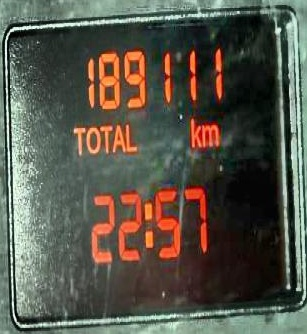1: (86, 55, 94, 107), (188, 47, 195, 101), (214, 46, 221, 99), (162, 49, 169, 102)
2: (90, 193, 115, 262), (117, 190, 141, 259)
5: (154, 189, 180, 257)
7: (183, 185, 206, 252)
8: (97, 51, 119, 109)
9: (123, 49, 144, 107)
X: (111, 122, 126, 153), (85, 125, 101, 153), (143, 200, 152, 246), (201, 123, 218, 147), (99, 125, 112, 153), (72, 126, 85, 154), (189, 116, 200, 147), (125, 122, 136, 153)
